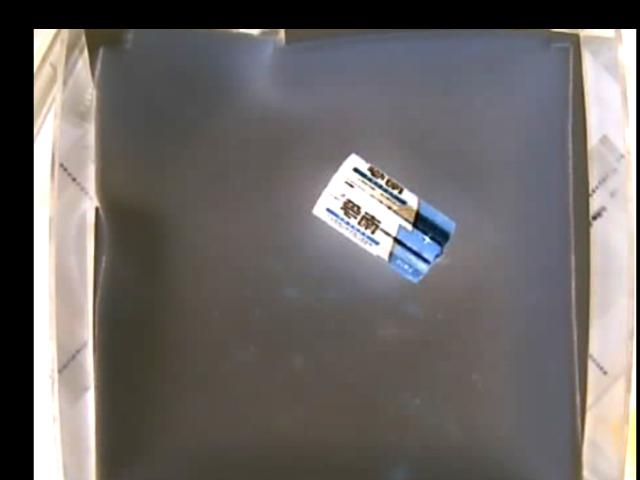Battery: (312, 154, 455, 283)
